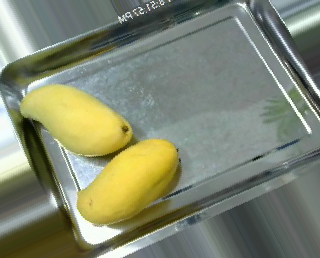Mango: (16, 80, 132, 160), (67, 141, 180, 223)
